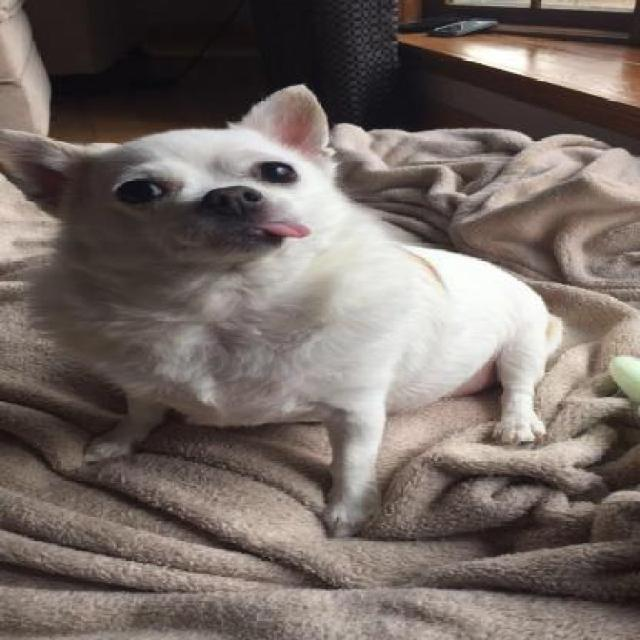Dog: (3, 83, 554, 539)
